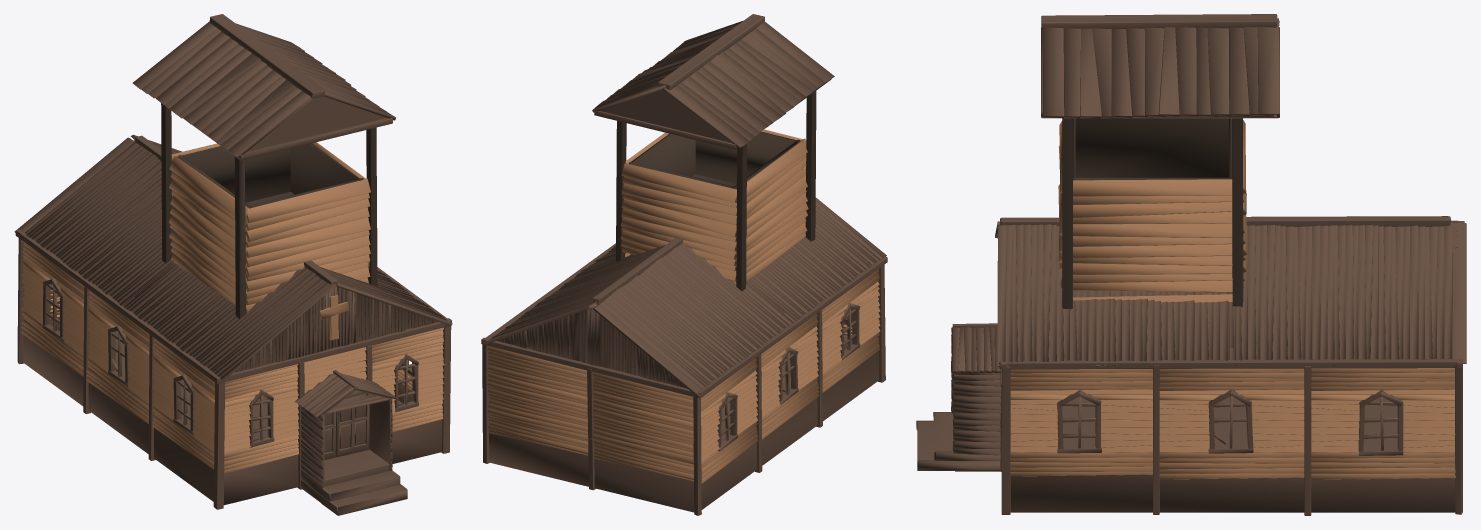
File: church.fbx
3 views of the same model, side by side, from view 1: azimuth 30°, elevation 25°; view 2: azimuth 150°, elevation 25°; view 3: azimuth 270°, elevation 25° (orthographic). The views are drawn at different scales.
Visible parts, largest first — view 1: Church3.001, Church1.005, Church2.001, Church1.009; view 2: Church3.001, Church1.005, Church2.001, Church1.009; view 3: Church3.001, Church1.005, Church2.001, Church1.009.
Part boxes in pixels (x1,y1,x2,y2): Church3.001: [14, 134, 452, 515]; Church1.005: [168, 142, 370, 313]; Church2.001: [132, 14, 395, 160]; Church1.009: [161, 103, 377, 318]; Church3.001: [481, 197, 887, 515]; Church1.005: [620, 129, 808, 284]; Church2.001: [592, 14, 834, 149]; Church1.009: [616, 91, 816, 290]; Church3.001: [916, 216, 1466, 515]; Church1.005: [1058, 118, 1246, 302]; Church2.001: [1041, 14, 1279, 118]; Church1.009: [1062, 118, 1243, 309].
Size of the model in its own units: 14.8 by 22.7 by 25.98.
